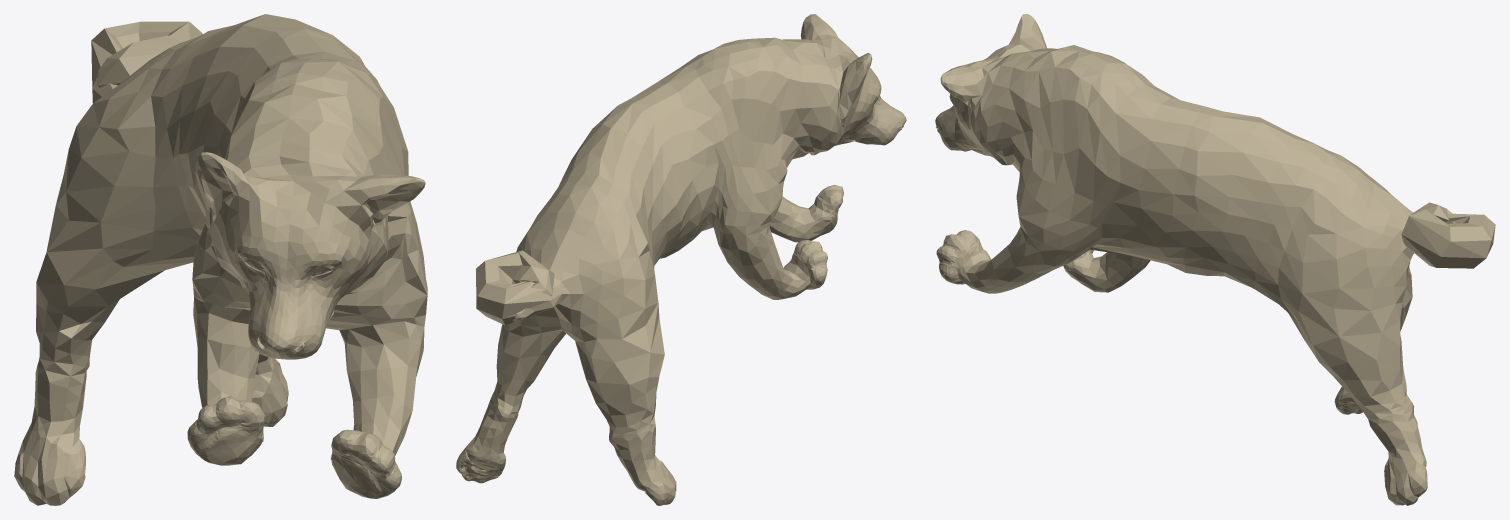
The picture shows the model from 3 angles, left to right: view 1: azimuth 30°, elevation 25°; view 2: azimuth 150°, elevation 25°; view 3: azimuth 270°, elevation 25°; orthographic projection. The views are drawn at different scales.
Visible parts, largest first — view 1: world; view 2: world; view 3: world.
Boxes of the visible parts, left/top/right/bottom form: world: left=14, top=14, right=427, bottom=505; world: left=456, top=14, right=906, bottom=505; world: left=935, top=14, right=1495, bottom=505.
Size of the model in its own units: 0.5904 by 0.8719 by 1.15.
